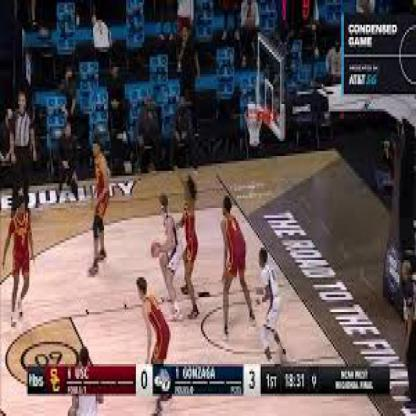basketball: (151, 240, 162, 260)
rim: (243, 106, 262, 124)
